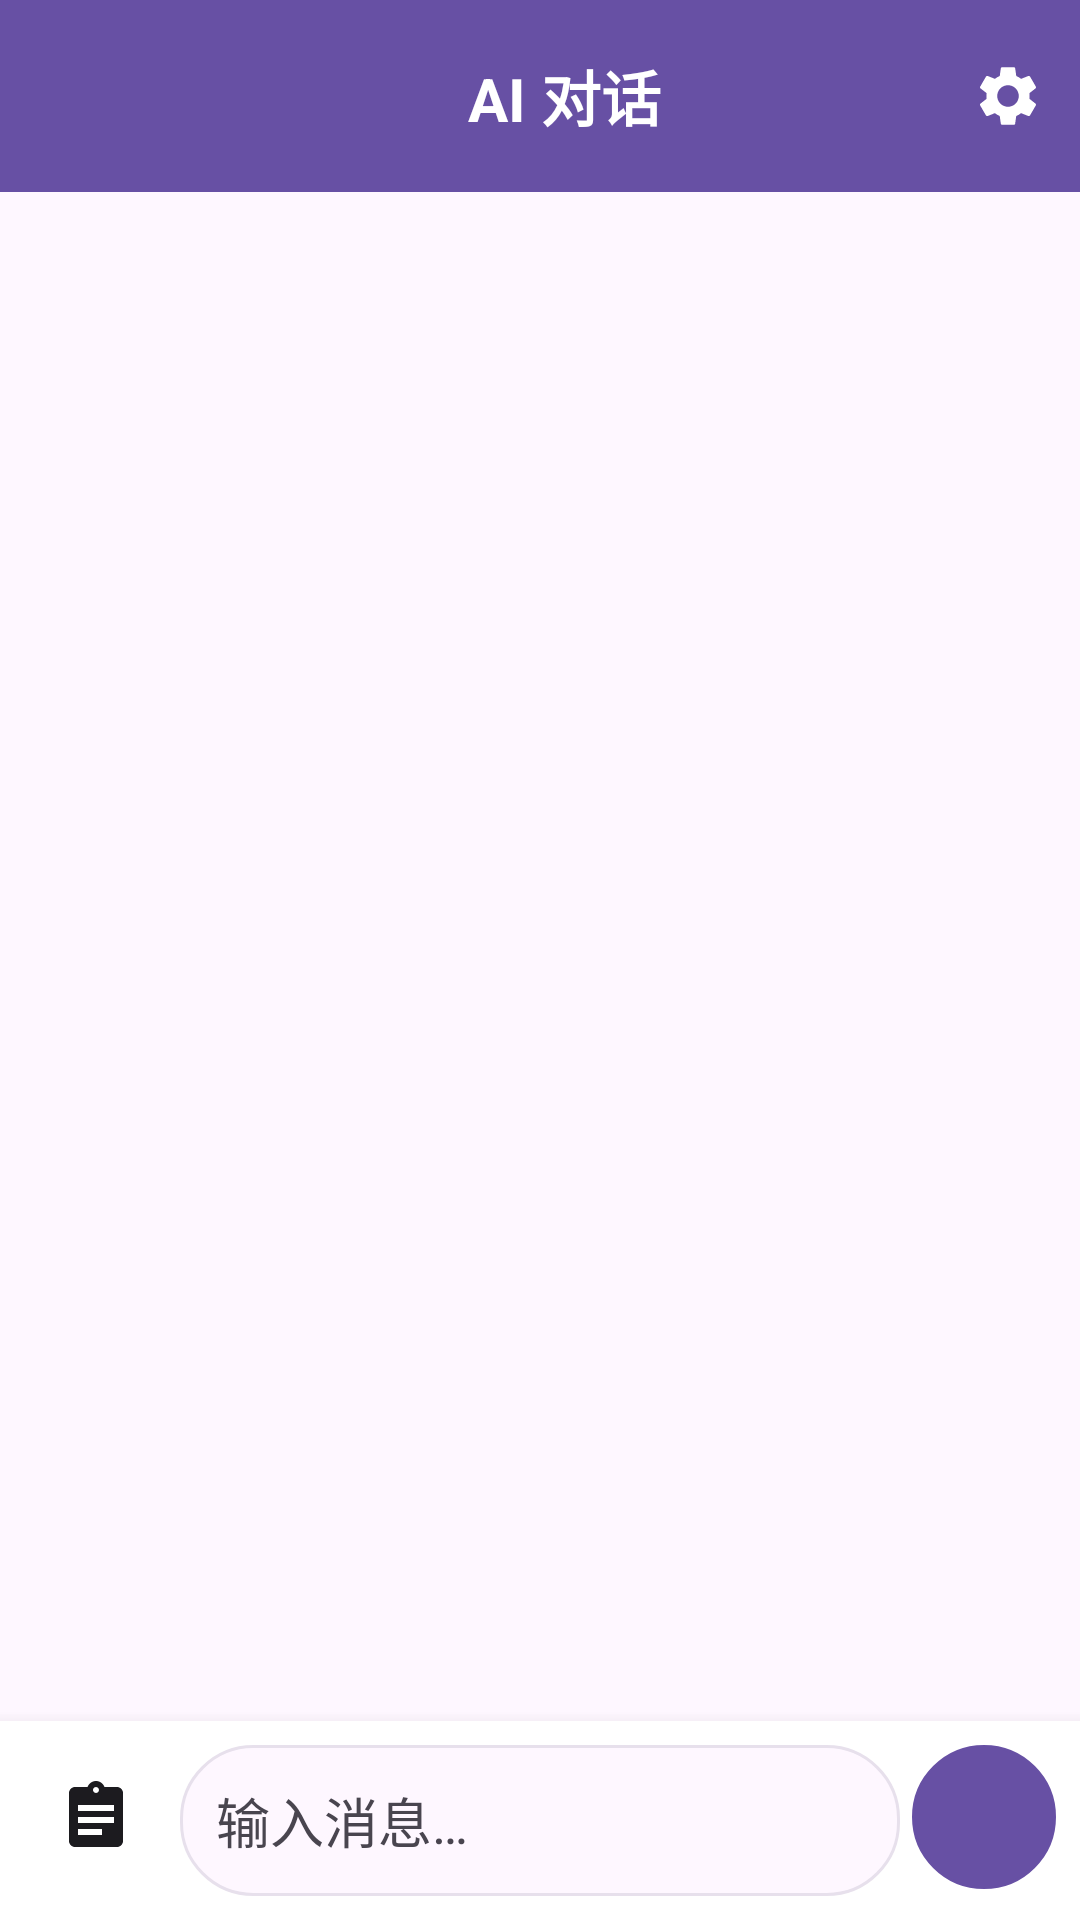

Icon click points for this 1080x1920 phone screenshot, format point (x, y):
粘贴: point (96, 1814)
设置: point (1008, 96)
